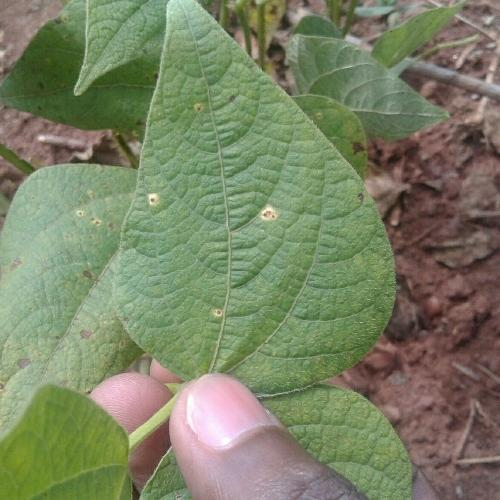mozaik: (146, 31, 365, 371)
